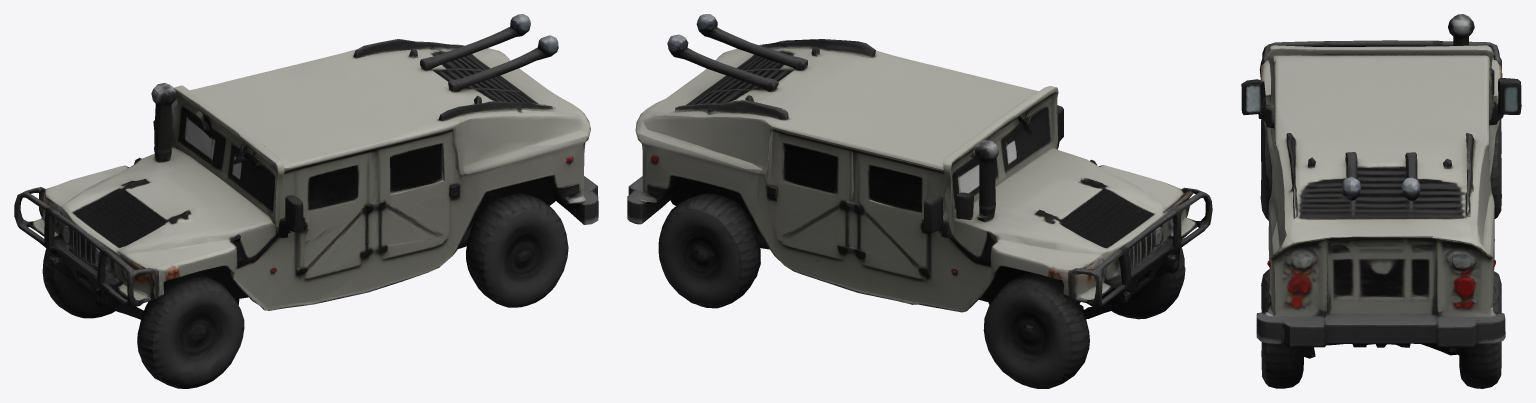
Rendered from humvee.glb.
3 renders of one model, left to right at view 1: azimuth 30°, elevation 25°; view 2: azimuth 150°, elevation 25°; view 3: azimuth 270°, elevation 25°, orthographic. The views are drawn at different scales.
Parts seen in each view (by area): view 1: geometry_0; view 2: geometry_0; view 3: geometry_0.
Boxes of the visible parts, x1,y1,x2,y2 form: geometry_0: (14, 14, 598, 388); geometry_0: (627, 14, 1212, 388); geometry_0: (1241, 14, 1521, 388).
Size of the model in its own units: 0.9163 by 0.4137 by 0.4405.
1 material, 1 textured.
